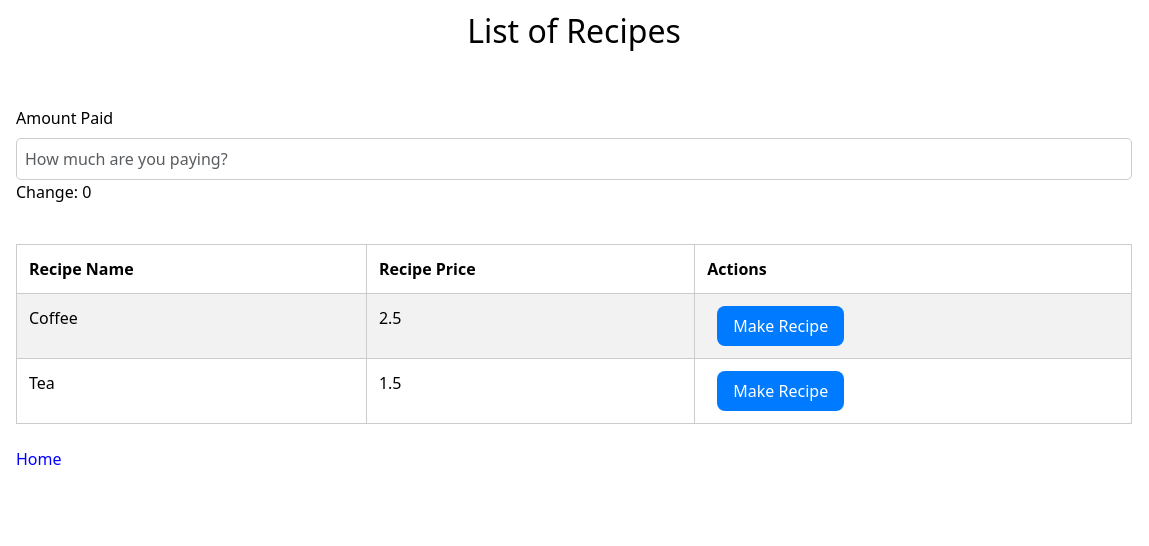
it: ListRecipesComponent › displays validation error for negative amount paid
Expected: the text "Coffee" is shown, 16,294 -> 366,359
In the number field with placeholder "How much are you paying?": (574, 159) 16,138 -> 1132,180, type "-5"
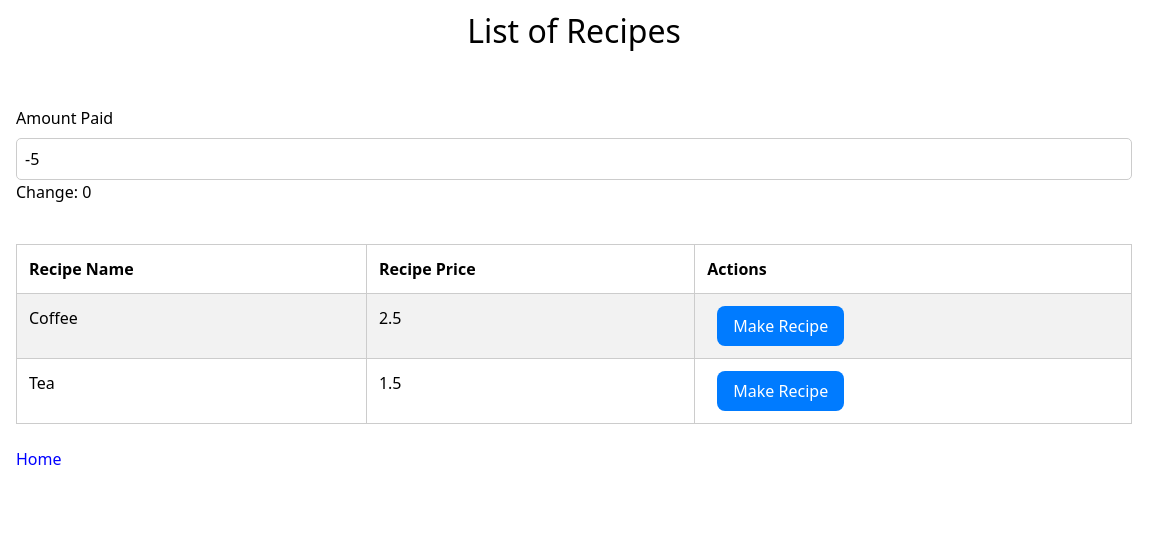
Click the button "Make Recipe" in the row of "Coffee": (781, 326) 717,306 -> 844,346
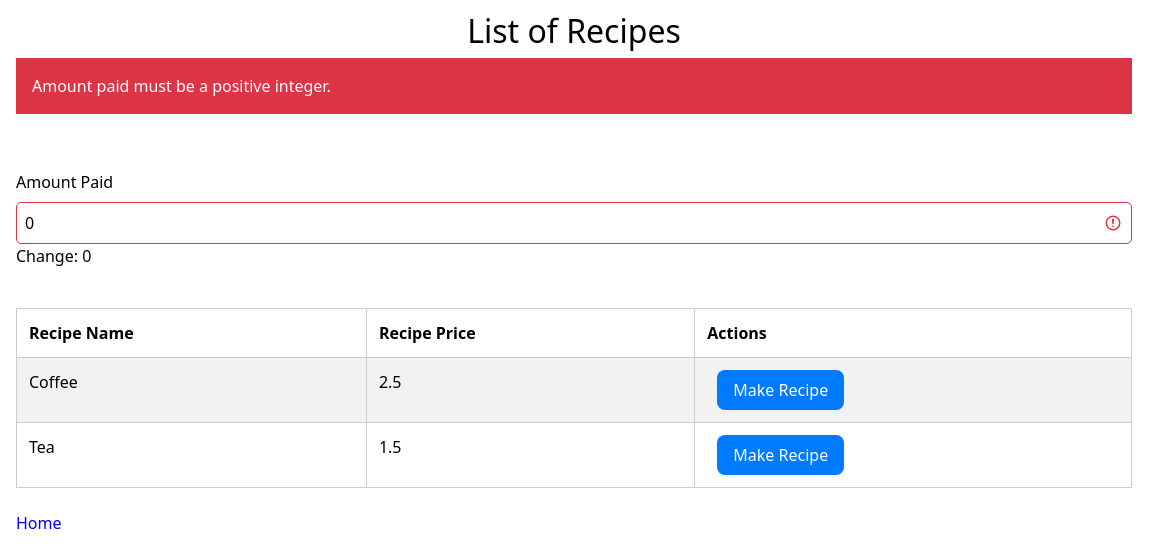
Now the text "Amount paid must be a positive integer." is shown, box 16,58 -> 1132,114
